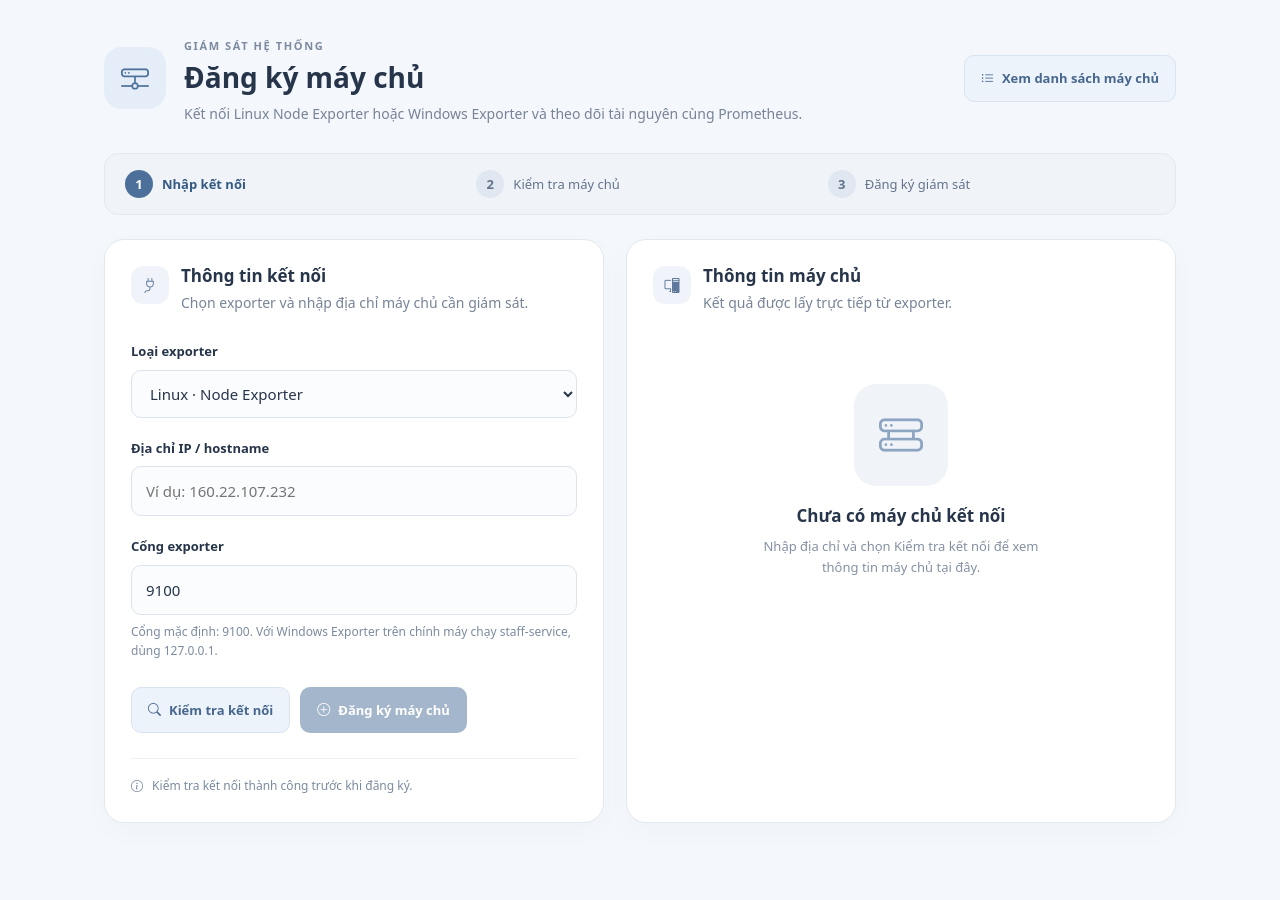
disables registration after success
The width and height of the screenshot is (1280, 900).
In the field labelled "Địa chỉ IP / hostname": (354, 491) [131,466,577,516], type "160.22.107.232"
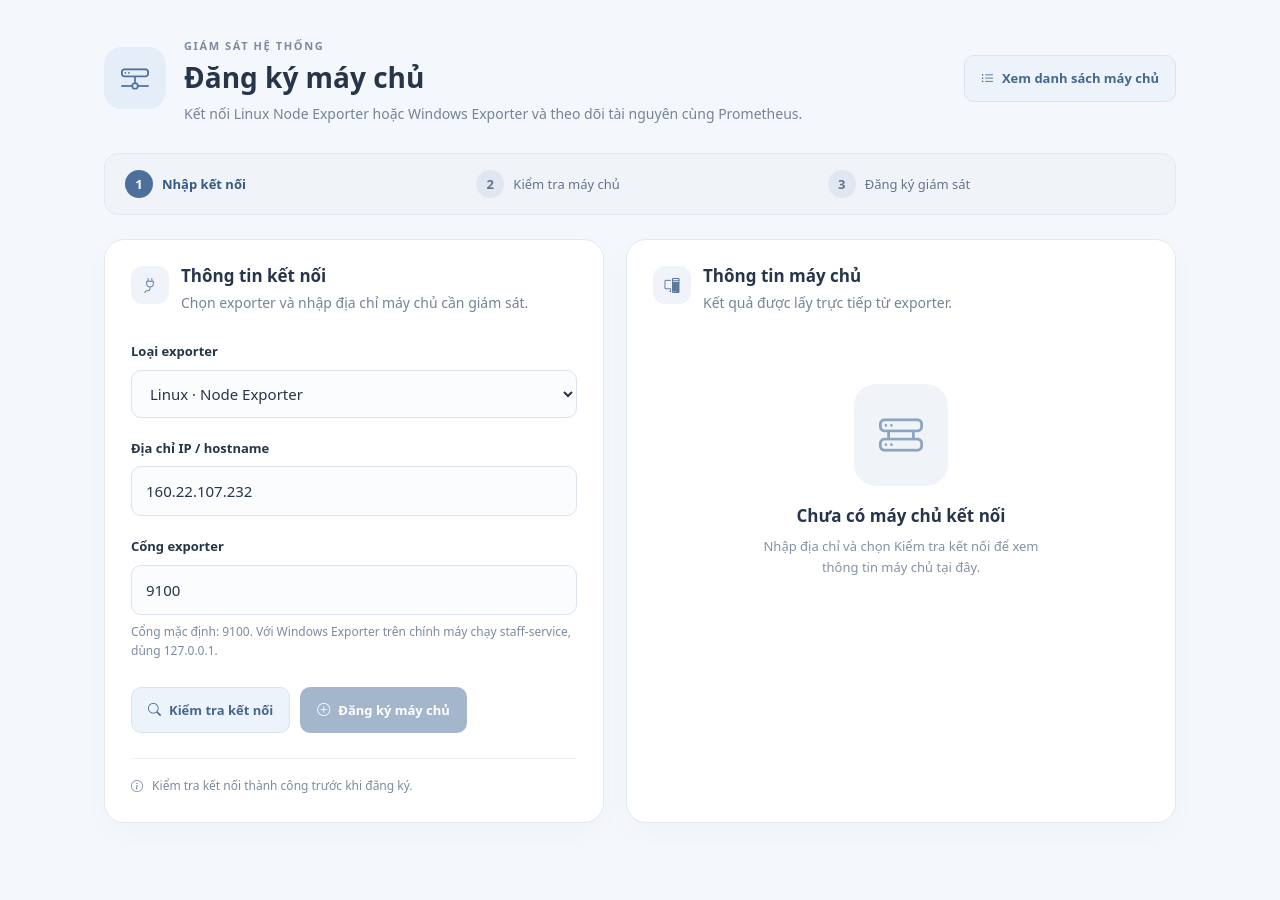
Submit the form, box [131,341,577,733]
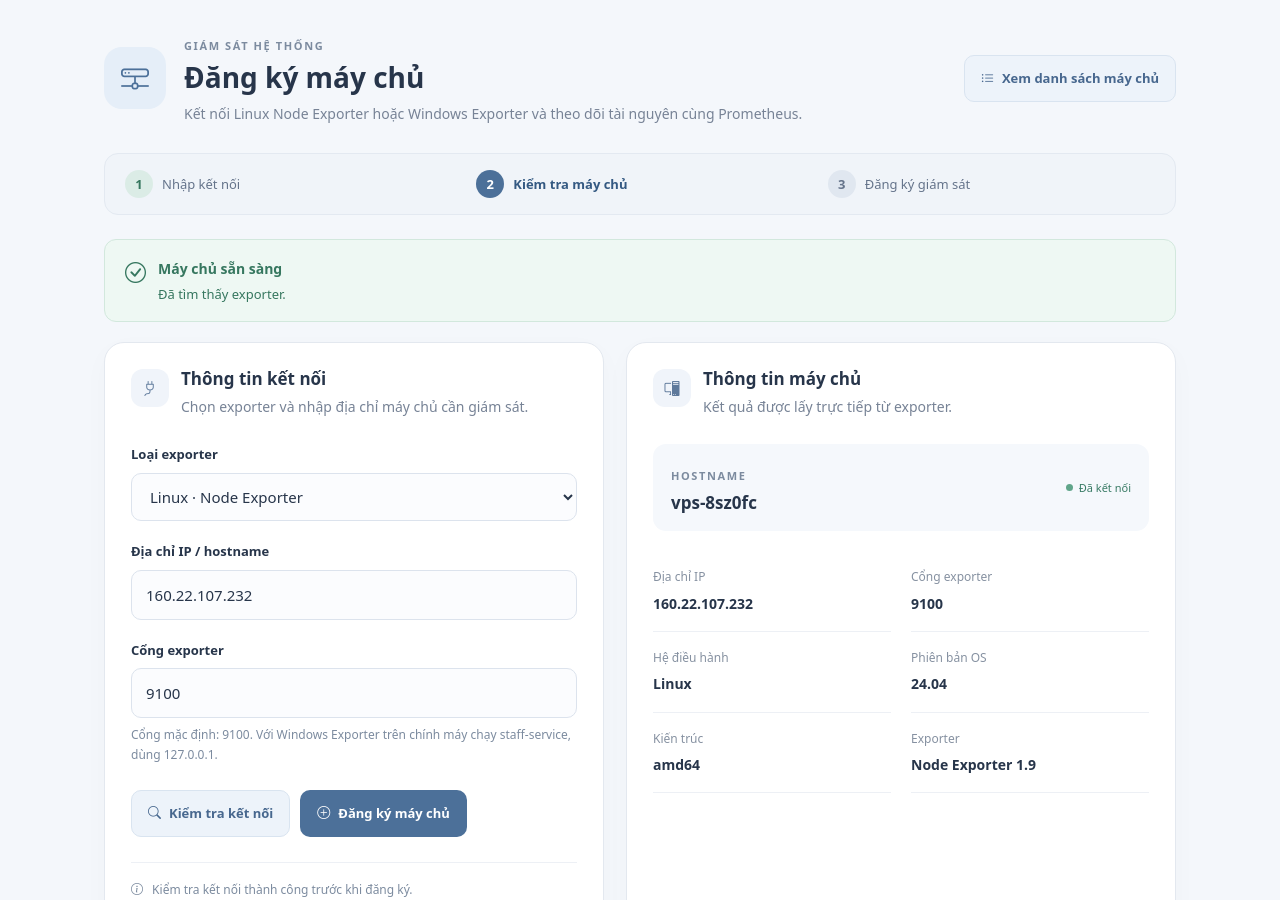
Click the button with class "btn-register": (384, 813) [300,790,467,836]
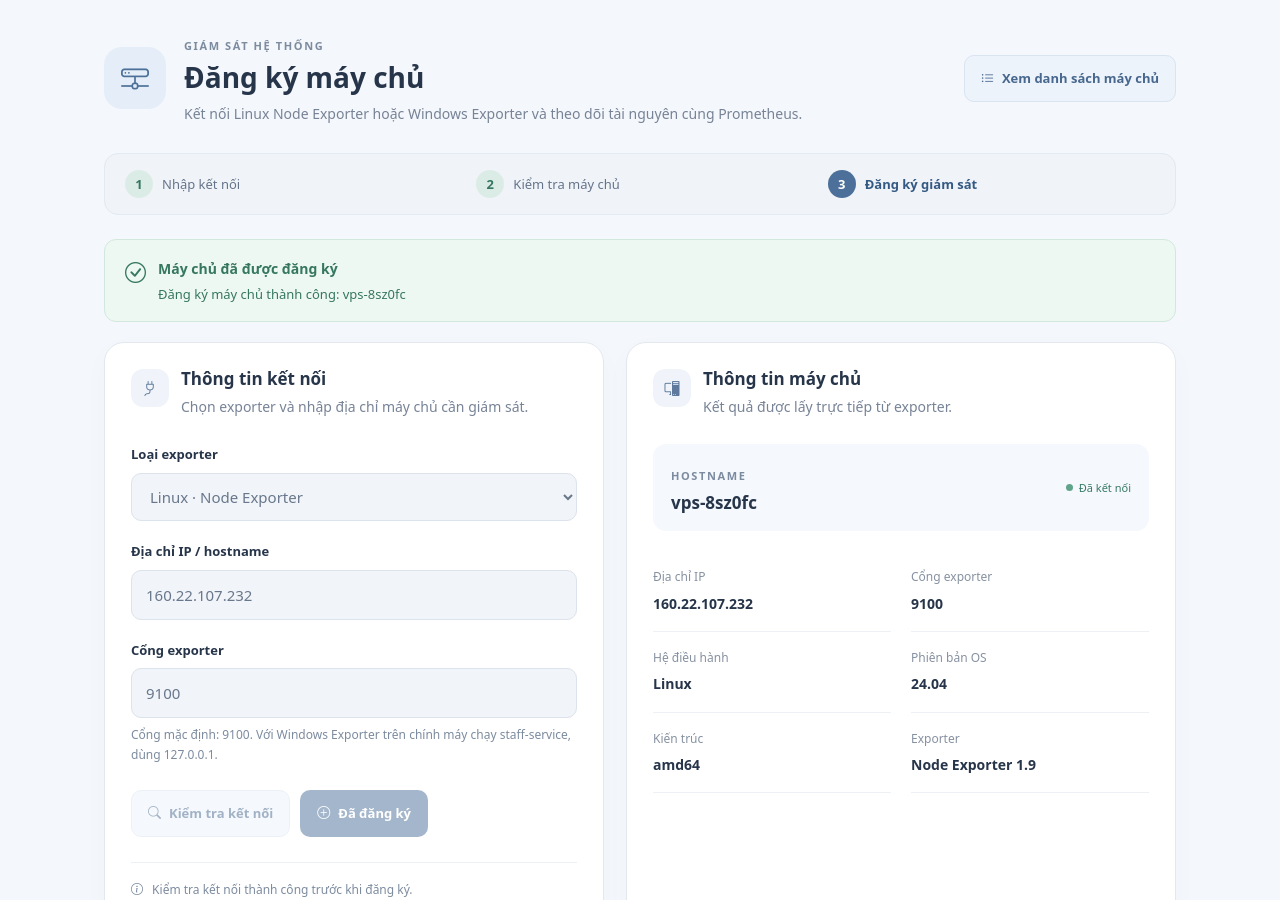
Result: the message "Máy chủ đã được đăng ký Đăng ký máy chủ thành công: vps-8sz0fc" is shown at [104,239,1176,322]
Result: the button with class "btn-register" is disabled at [300,790,428,836]
